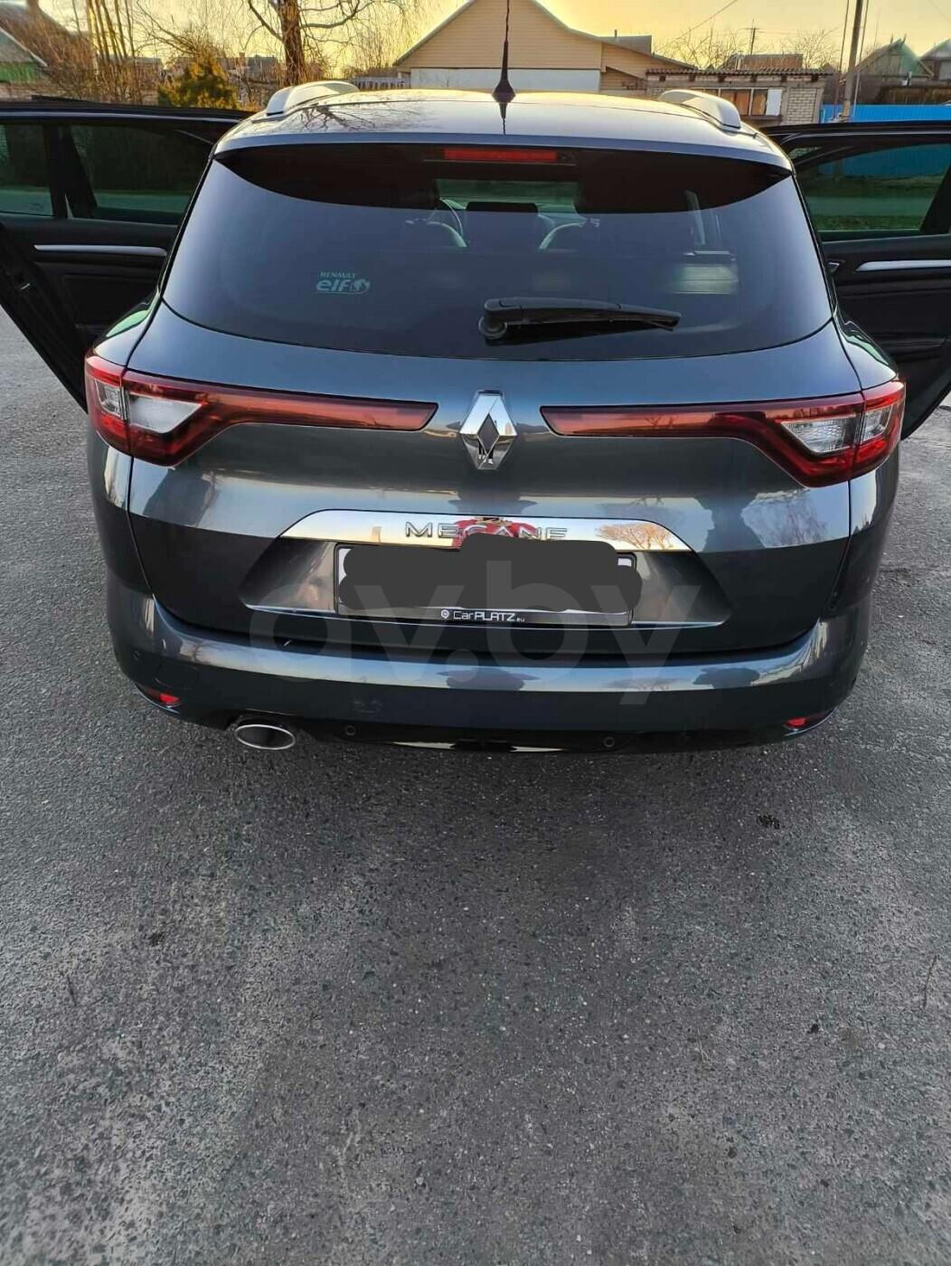Megane_2016-2020: (71, 87, 900, 767)
